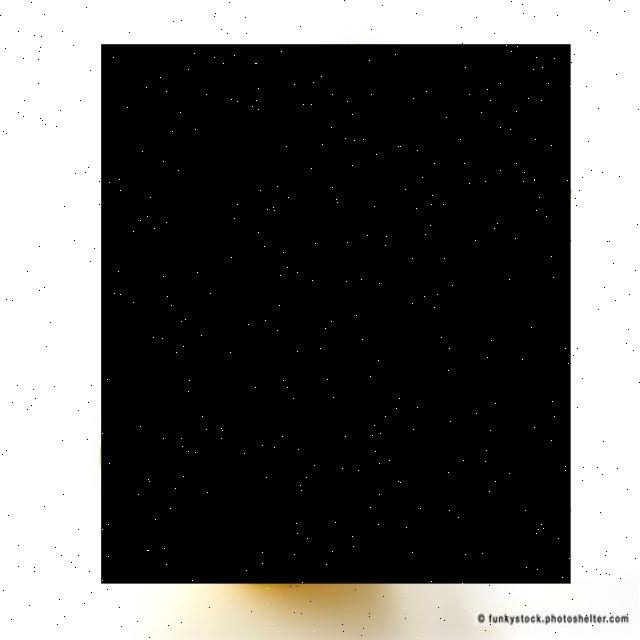Lemon: (101, 44, 571, 584)
